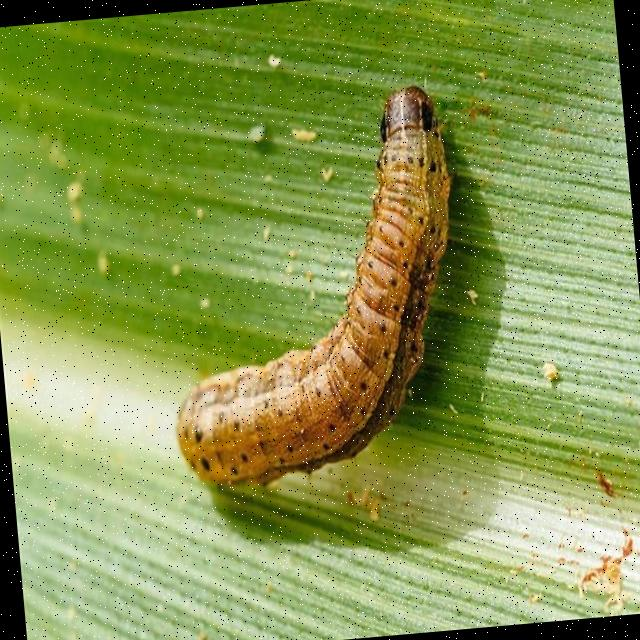worm: (149, 80, 482, 495)
